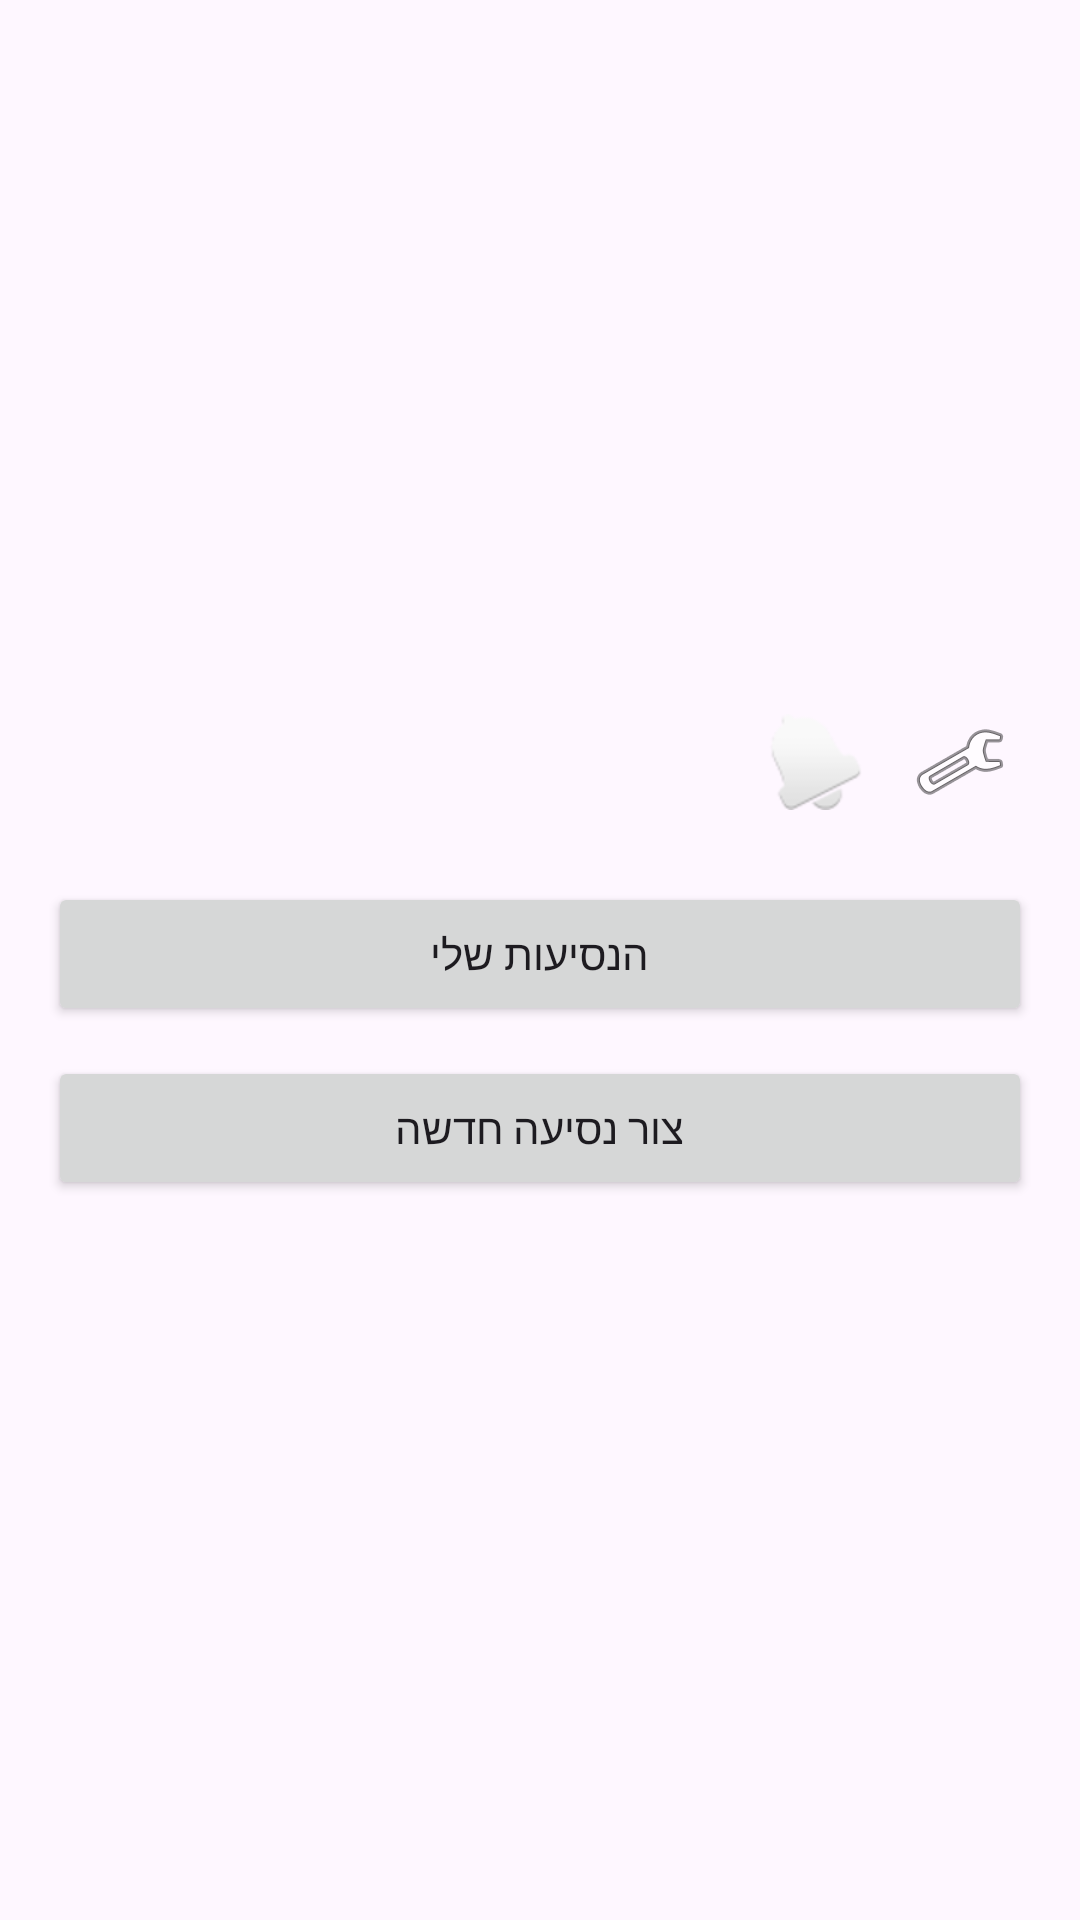

Screen size 1080x1920. Icon name, then its center in pixels as (x,y):
הגדרות: (960,762)
